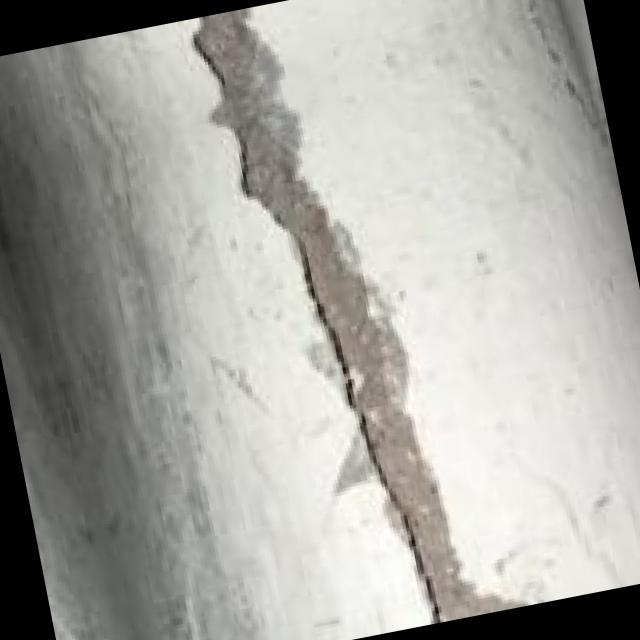crack: (136, 0, 490, 640)
